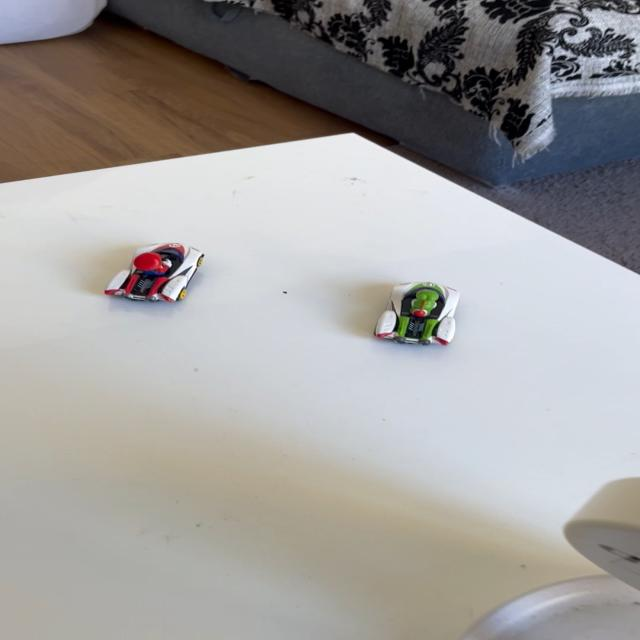mario: (84, 238, 220, 312)
yoshi: (357, 278, 474, 356)
